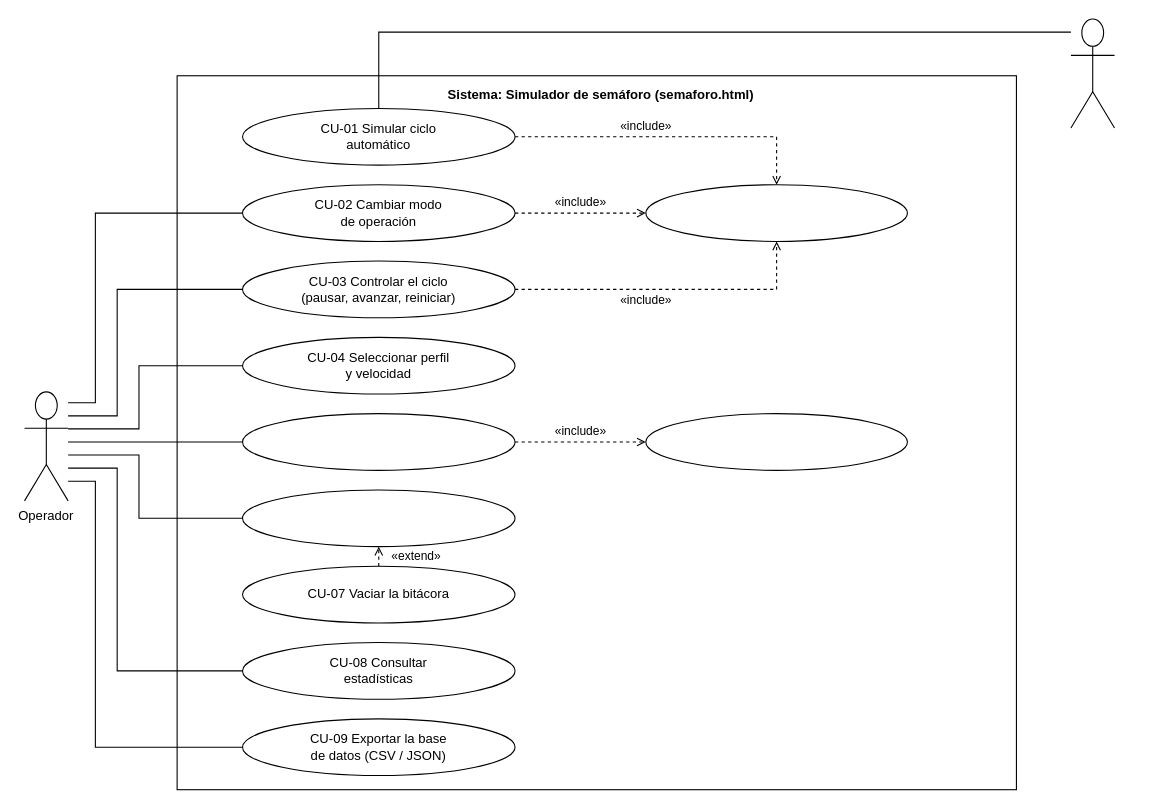
This 1151x809 diagram has some shape labels left out. Each missing label, with the centre of its shape:
CU-05 Gestionar perfiles de tiempo: the point at 378,441
CU-06 Consultar y filtrar la bitácora: the point at 378,518
CU-10 Registrar evento en la bitácora: the point at 776,212
CU-11 Validar datos del perfil: the point at 776,441
Temporizador (reloj del navegador): the point at 1092,73
